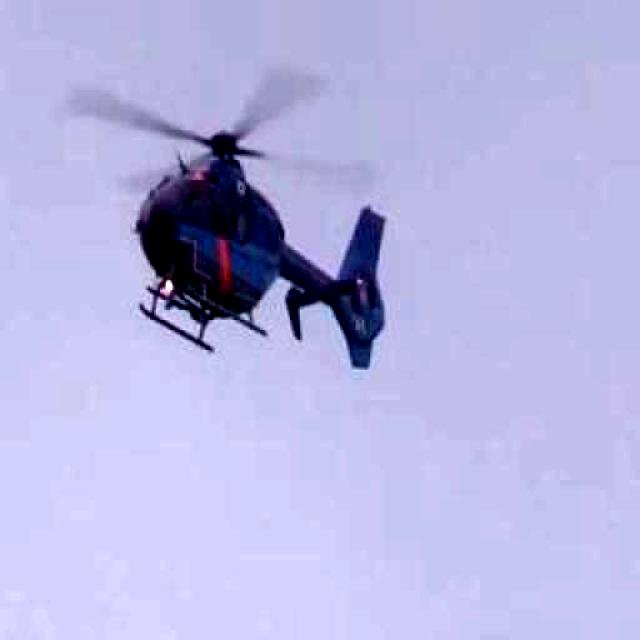drone: (29, 11, 438, 402)
